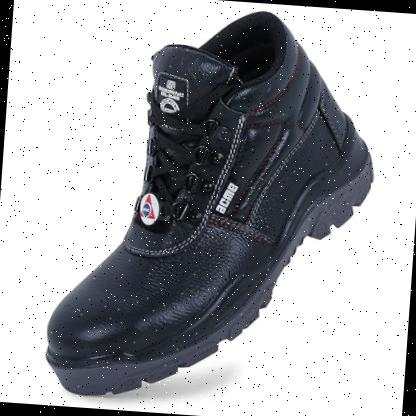bota: (37, 0, 389, 416)
